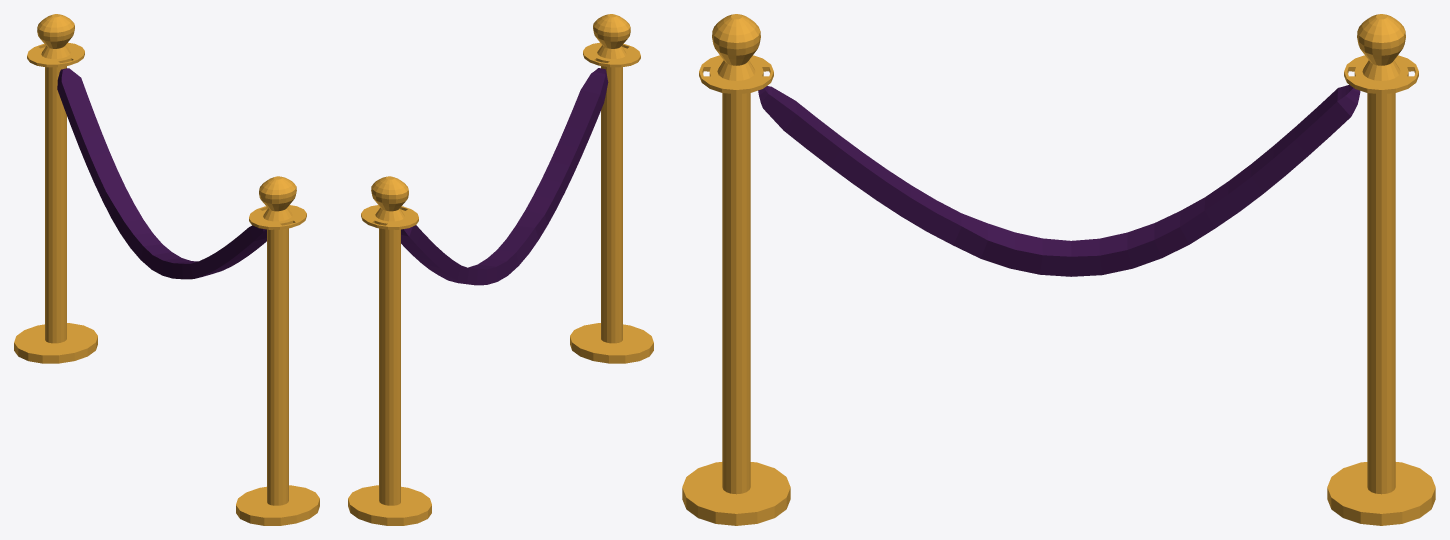
File: Menschenmassenkontrolle.glb
3 renders of one model, left to right at view 1: azimuth 30°, elevation 25°; view 2: azimuth 150°, elevation 25°; view 3: azimuth 270°, elevation 25°, orthographic. The views are drawn at different scales.
Parts seen in each view (by area): view 1: Menschenmassenkontrolle; view 2: Menschenmassenkontrolle; view 3: Menschenmassenkontrolle.
Boxes of the visible parts, left/top/right/bottom form: Menschenmassenkontrolle: left=14, top=14, right=319, bottom=525; Menschenmassenkontrolle: left=348, top=14, right=653, bottom=525; Menschenmassenkontrolle: left=682, top=14, right=1435, bottom=525.
Size of the model in its own units: 0.3364 by 1.41 by 2.
